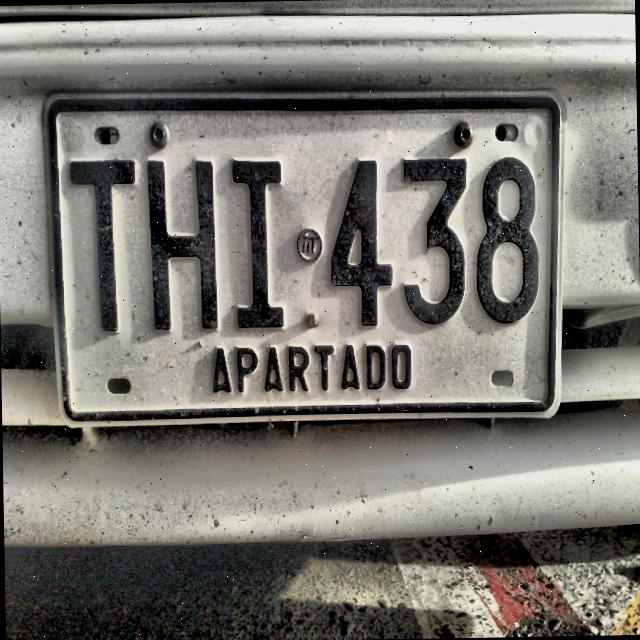plate: (43, 89, 567, 428)
